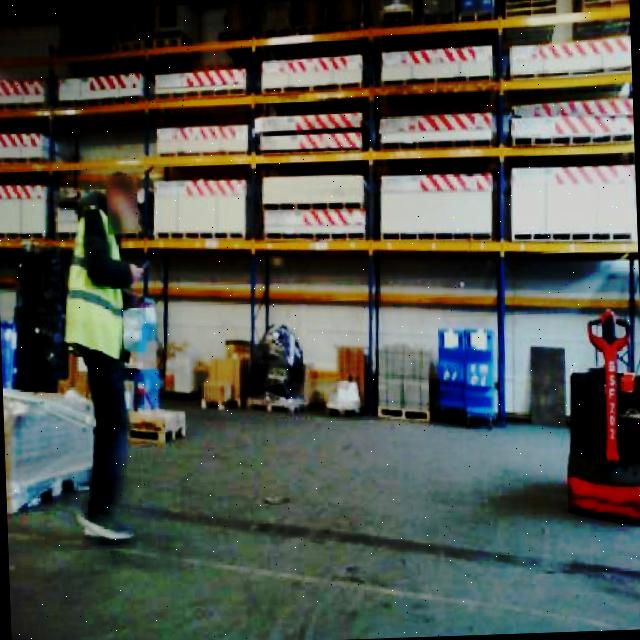ground: (2, 370, 640, 640)
pallet: (2, 373, 184, 517), (369, 319, 504, 436), (508, 153, 636, 258), (377, 159, 497, 257), (189, 321, 303, 421), (499, 80, 634, 153), (256, 165, 370, 251), (143, 162, 250, 252), (370, 31, 500, 93), (497, 24, 630, 84), (0, 166, 91, 252), (256, 42, 371, 104), (376, 98, 495, 154), (249, 110, 366, 161), (150, 113, 249, 169), (55, 60, 146, 115), (150, 50, 253, 98), (0, 114, 85, 169), (0, 64, 53, 121)
